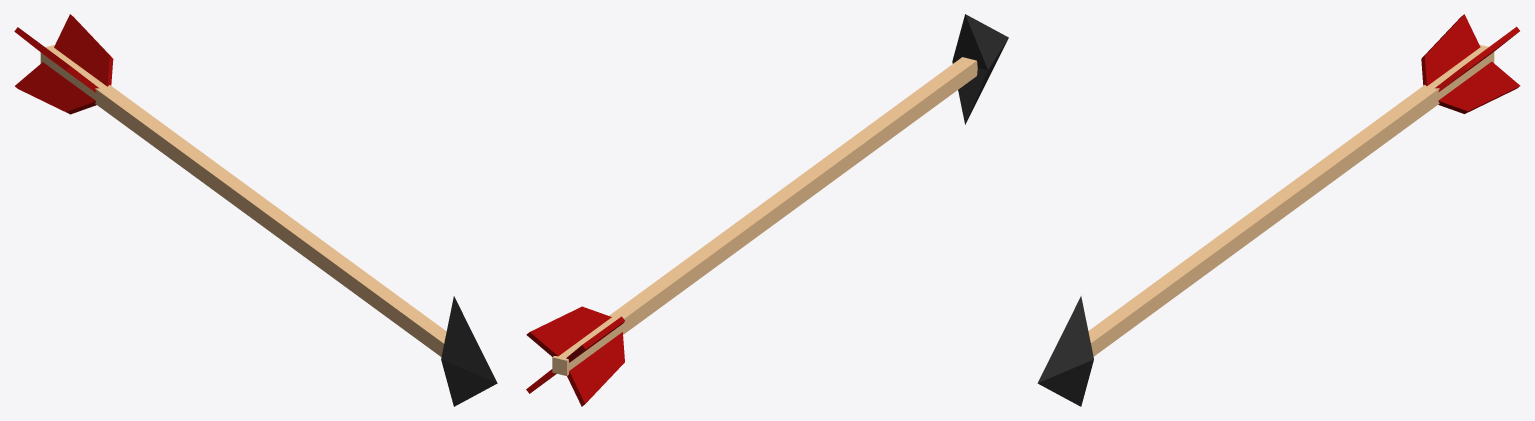
Rendered from Arrow.fbx.
The picture shows the model from 3 angles, left to right: view 1: azimuth 30°, elevation 25°; view 2: azimuth 150°, elevation 25°; view 3: azimuth 330°, elevation 25°; orthographic projection.
Parts seen in each view (by area): view 1: Cube; view 2: Cube; view 3: Cube.
Part boxes in pixels (<box>): Cube: <box>14,14,497,406</box>; Cube: <box>526,14,1008,406</box>; Cube: <box>1037,14,1520,406</box>.
Bounding box in the file's own units: 12.28 × 21.93 × 162.
